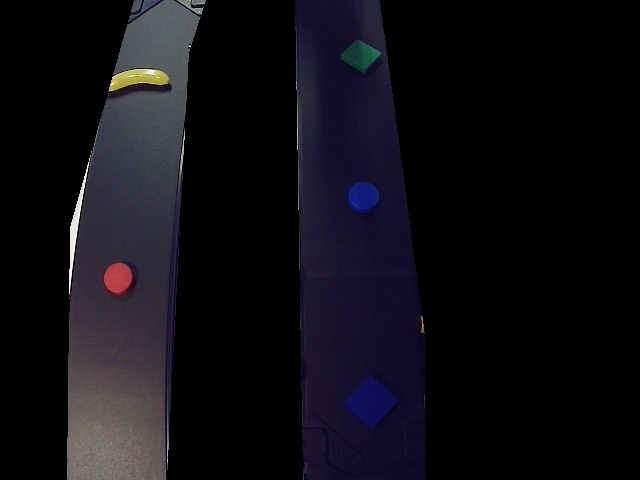Blue_Circle: (346, 180, 381, 212)
Blue_Square: (348, 374, 398, 429)
Green_Square: (339, 38, 383, 75)
Red_Circle: (103, 262, 134, 297)
Unknown: (100, 69, 174, 97)
